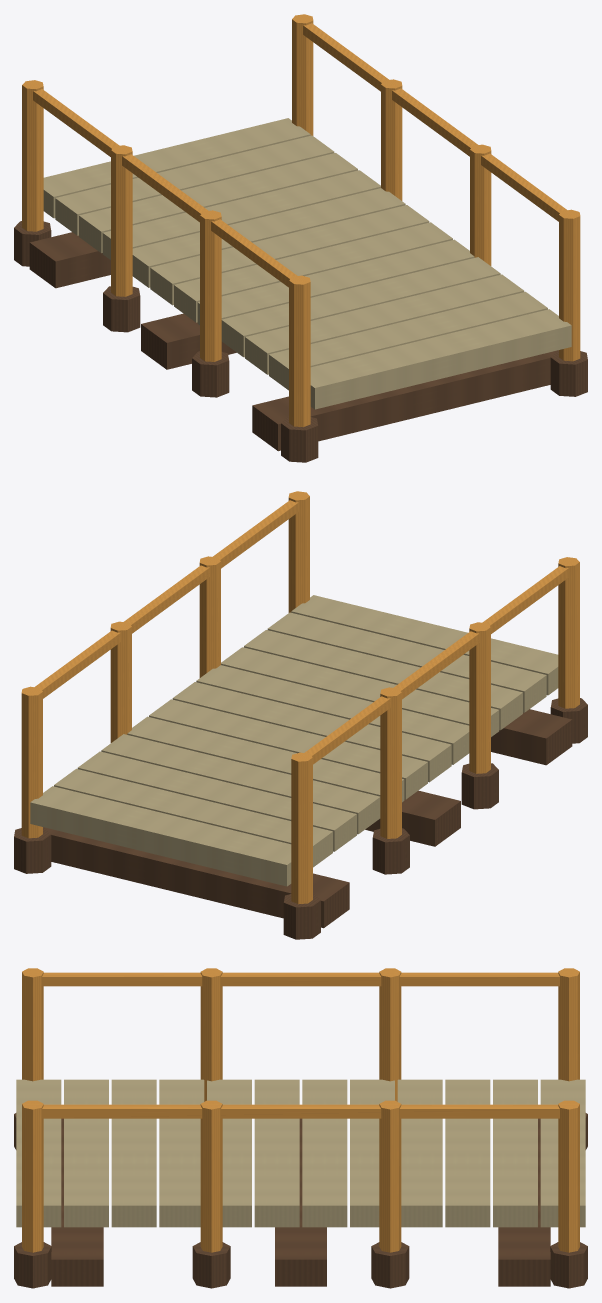
The model's file is atlas100-s020-a01.lod1.glb.
The picture shows the model from 3 angles, top to bottom: view 1: azimuth 30°, elevation 25°; view 2: azimuth 150°, elevation 25°; view 3: azimuth 270°, elevation 25°; orthographic projection.
Visible parts, largest first — view 1: atlas100-s020-a01:part-011, atlas100-s020-a01:part-032, atlas100-s020-a01:part-008, atlas100-s020-a01:part-009, atlas100-s020-a01:part-010, atlas100-s020-a01:part-001, atlas100-s020-a01:part-005, atlas100-s020-a01:part-002, atlas100-s020-a01:part-006, atlas100-s020-a01:part-004, atlas100-s020-a01:part-000, atlas100-s020-a01:part-003 (+18 smaller); view 2: atlas100-s020-a01:part-000, atlas100-s020-a01:part-030, atlas100-s020-a01:part-003, atlas100-s020-a01:part-002, atlas100-s020-a01:part-001, atlas100-s020-a01:part-010, atlas100-s020-a01:part-006, atlas100-s020-a01:part-009, atlas100-s020-a01:part-005, atlas100-s020-a01:part-007, atlas100-s020-a01:part-011, atlas100-s020-a01:part-008 (+18 smaller); view 3: atlas100-s020-a01:part-020, atlas100-s020-a01:part-029, atlas100-s020-a01:part-002, atlas100-s020-a01:part-005, atlas100-s020-a01:part-006, atlas100-s020-a01:part-009, atlas100-s020-a01:part-001, atlas100-s020-a01:part-010, atlas100-s020-a01:part-003, atlas100-s020-a01:part-008, atlas100-s020-a01:part-004, atlas100-s020-a01:part-007 (+17 smaller).
Part boxes in pixels (x1,y1,x2,y2): atlas100-s020-a01:part-011: (310, 309, 571, 409); atlas100-s020-a01:part-032: (252, 350, 558, 451); atlas100-s020-a01:part-008: (221, 257, 500, 357); atlas100-s020-a01:part-009: (245, 274, 524, 374); atlas100-s020-a01:part-010: (269, 291, 547, 390); atlas100-s020-a01:part-001: (55, 135, 334, 235); atlas100-s020-a01:part-005: (150, 205, 429, 305); atlas100-s020-a01:part-002: (79, 153, 357, 253); atlas100-s020-a01:part-006: (174, 222, 452, 322); atlas100-s020-a01:part-004: (132, 188, 405, 287); atlas100-s020-a01:part-000: (43, 118, 310, 218); atlas100-s020-a01:part-003: (102, 170, 380, 259); atlas100-s020-a01:part-000: (30, 786, 291, 886); atlas100-s020-a01:part-030: (43, 827, 349, 928); atlas100-s020-a01:part-003: (101, 734, 380, 834); atlas100-s020-a01:part-002: (77, 751, 356, 851); atlas100-s020-a01:part-001: (54, 768, 332, 867); atlas100-s020-a01:part-010: (267, 612, 546, 712); atlas100-s020-a01:part-006: (172, 682, 451, 782); atlas100-s020-a01:part-009: (244, 630, 522, 730); atlas100-s020-a01:part-005: (149, 699, 427, 799); atlas100-s020-a01:part-007: (196, 665, 469, 764); atlas100-s020-a01:part-011: (291, 595, 558, 695); atlas100-s020-a01:part-008: (221, 647, 499, 736); atlas100-s020-a01:part-020: (42, 972, 559, 986); atlas100-s020-a01:part-029: (42, 1104, 559, 1118); atlas100-s020-a01:part-002: (445, 1079, 490, 1227); atlas100-s020-a01:part-005: (302, 1079, 347, 1227); atlas100-s020-a01:part-006: (254, 1079, 299, 1227); atlas100-s020-a01:part-009: (111, 1079, 156, 1227); atlas100-s020-a01:part-001: (493, 1079, 537, 1227); atlas100-s020-a01:part-010: (64, 1079, 108, 1227); atlas100-s020-a01:part-003: (397, 1079, 442, 1227); atlas100-s020-a01:part-008: (159, 1079, 204, 1227); atlas100-s020-a01:part-004: (350, 1079, 394, 1227); atlas100-s020-a01:part-007: (207, 1079, 251, 1227).
Bounding box in the file's own units: 2.35 × 1.3 × 3.85.
Materials: 3 (3 with a texture image).
